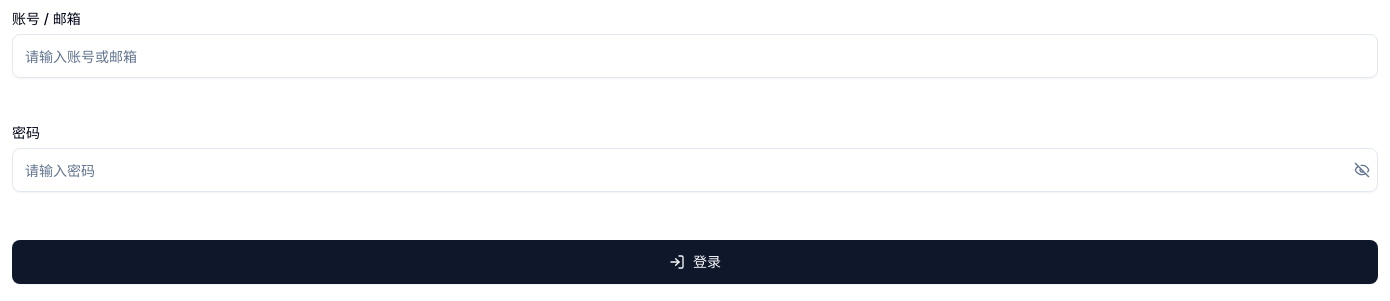
Test case: UserAuthForm › shows the minimum length message for a short password
Type "admin" into the field labelled "账号 / 邮箱" at (695, 56), box 12,34 -> 1378,78
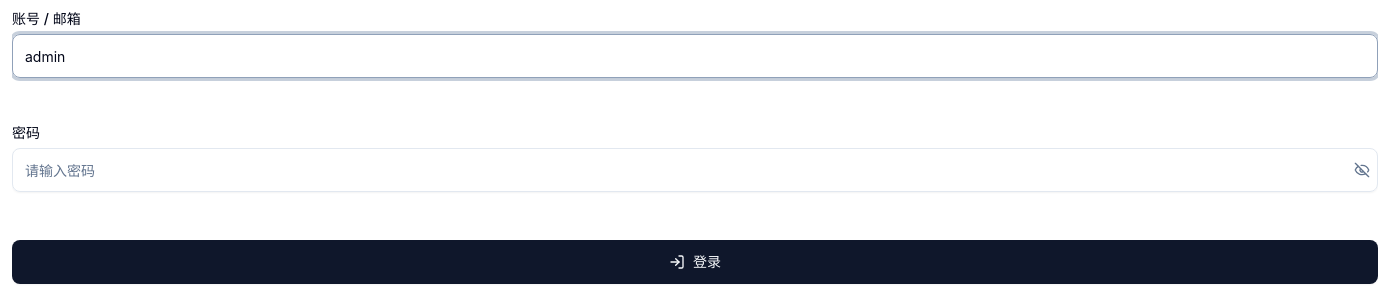
Type "12345" into the password field labelled "密码" at (695, 170), box 12,148 -> 1378,192
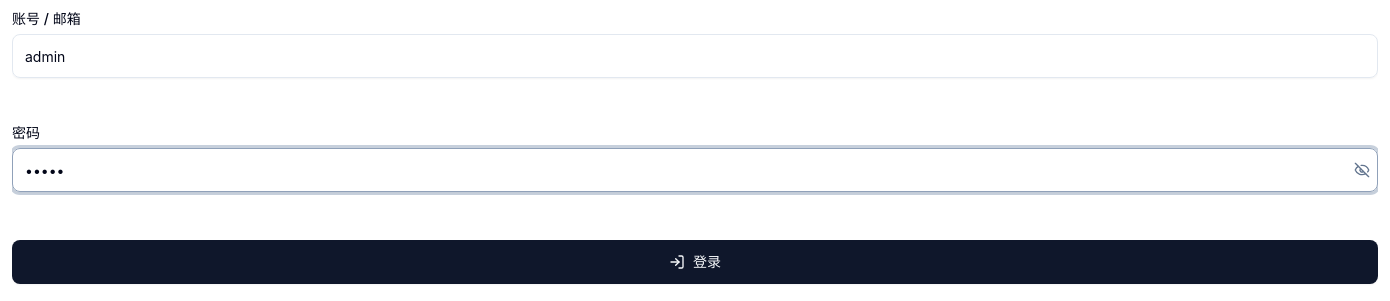
Click the button "登录" at (695, 262), box 12,240 -> 1378,284
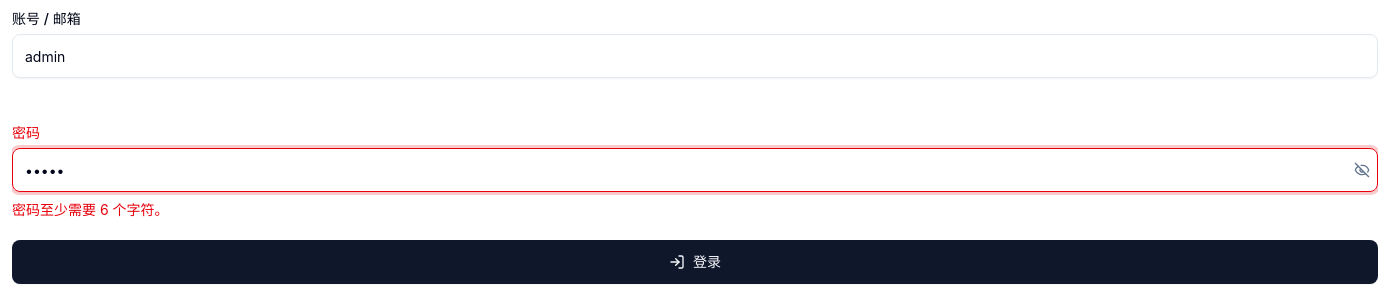
Now the text "密码至少需要 6 个字符。" is shown, box 12,201 -> 169,218
